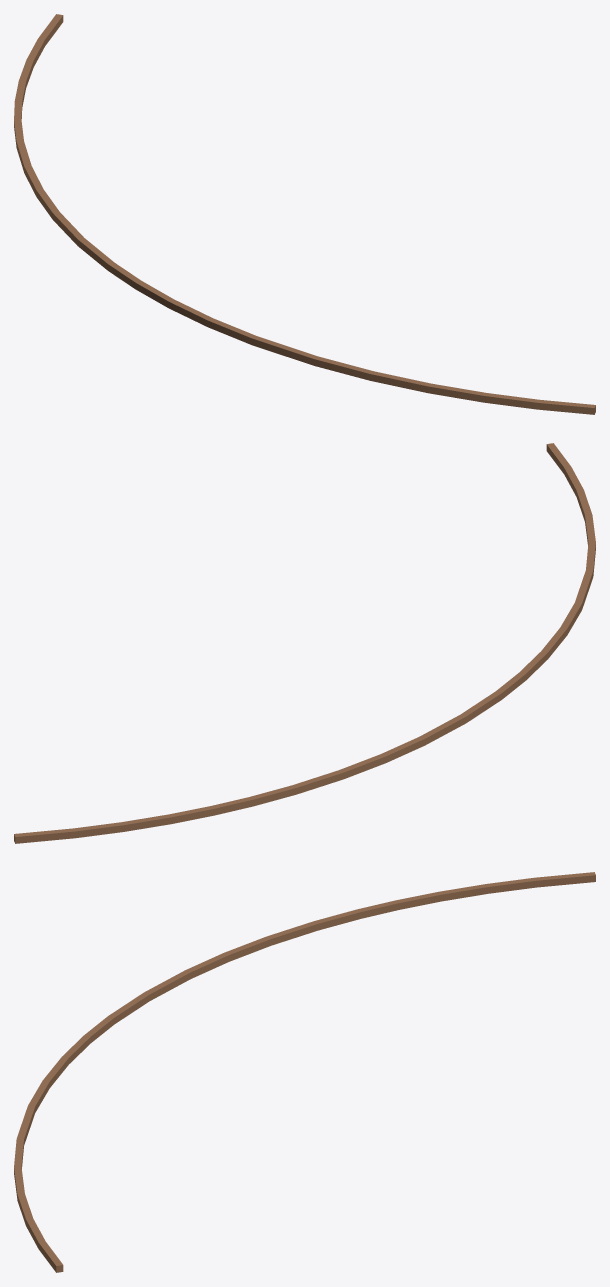
Rendered from S_Metal_Stem_02.fbx.
3 renders of one model, top to bottom at view 1: azimuth 30°, elevation 25°; view 2: azimuth 150°, elevation 25°; view 3: azimuth 330°, elevation 25°, orthographic.
Visible parts, largest first — view 1: S_Metal_Stem_02; view 2: S_Metal_Stem_02; view 3: S_Metal_Stem_02.
Boxes of the visible parts, left/top/right/bottom form: S_Metal_Stem_02: left=14, top=14, right=595, bottom=414; S_Metal_Stem_02: left=14, top=443, right=595, bottom=843; S_Metal_Stem_02: left=14, top=872, right=595, bottom=1272.
Size of the model in its own units: 115 by 3.38 by 484.
